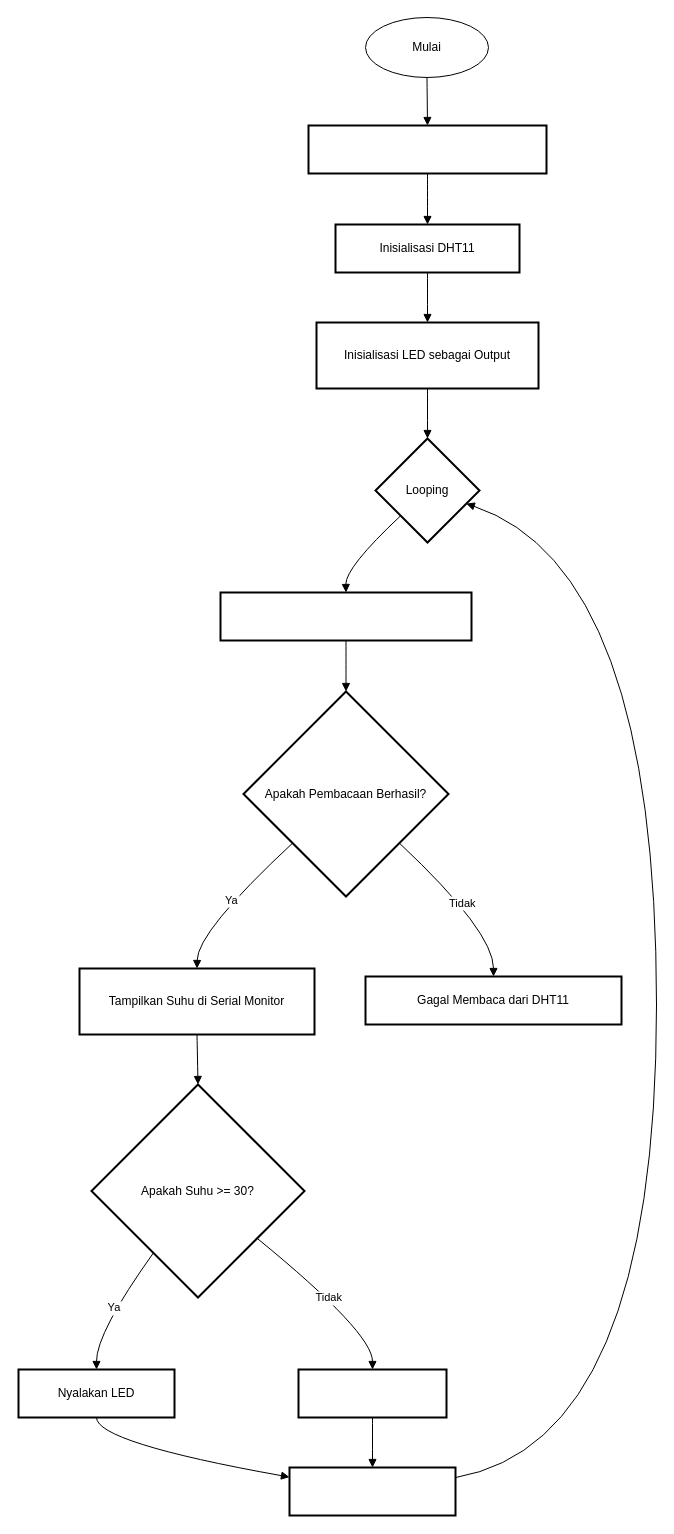
This 674x1534 diagram has some shape labels left out. Each missing label, with the centre of its shape:
"Inisialisasi Serial Monitor" goes at pixel 427 149.
"Matikan LED" goes at pixel 372 1393.
"Membaca Suhu dari DHT11" goes at pixel 345 616.
"Tunggu 2 detik" goes at pixel 372 1491.
